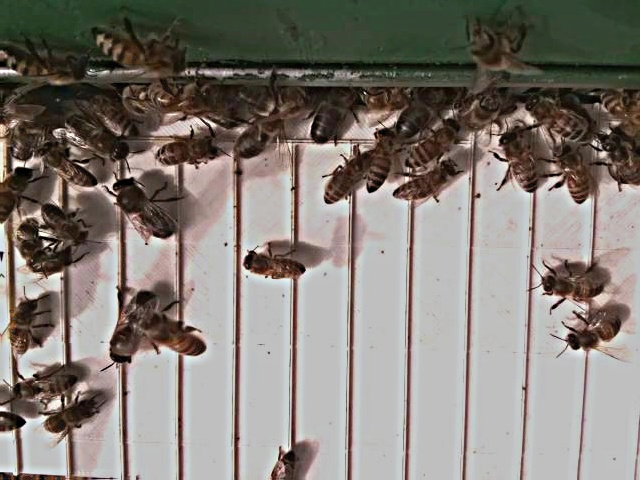Drone: (109, 177, 178, 243), (105, 289, 157, 369), (306, 84, 354, 149), (230, 110, 286, 164)
Worker: (390, 159, 461, 205), (495, 127, 540, 196), (237, 245, 310, 285), (536, 265, 609, 305), (562, 309, 624, 356), (407, 120, 463, 172), (140, 315, 208, 357), (38, 145, 98, 192), (320, 152, 366, 209), (551, 144, 591, 209), (9, 366, 78, 402), (362, 126, 398, 195), (5, 297, 44, 360), (41, 397, 99, 439), (37, 201, 91, 244), (153, 136, 219, 170)
